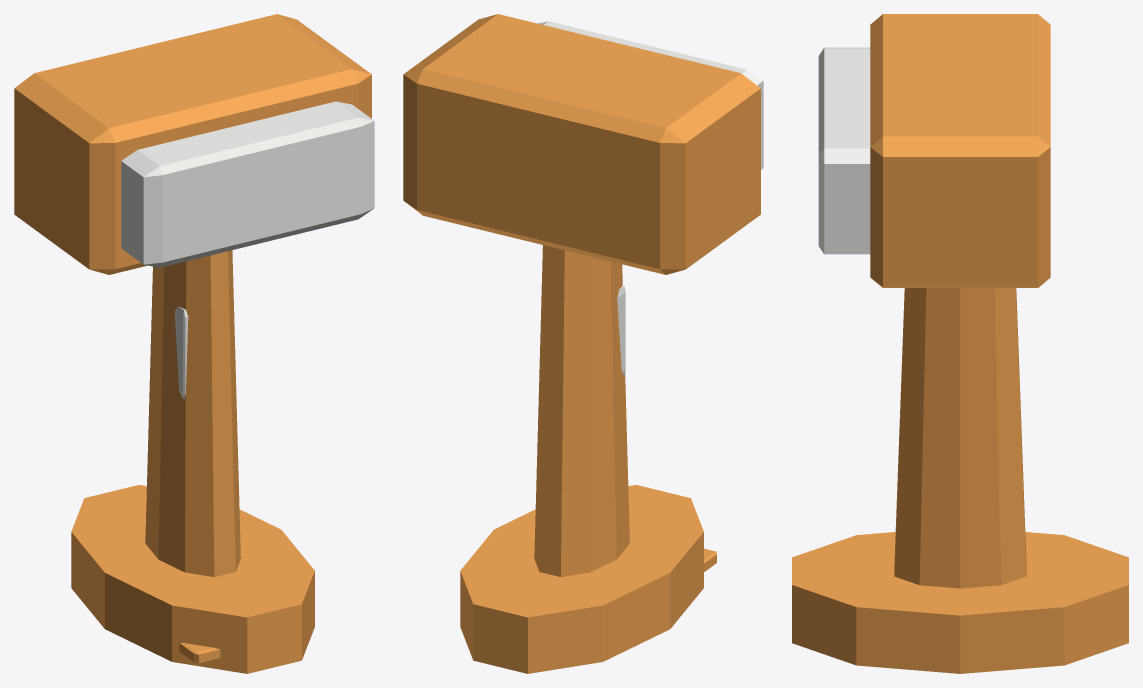
The model's file is b02_traffic_cone.glb.
The picture shows the model from 3 angles, left to right: view 1: azimuth 30°, elevation 25°; view 2: azimuth 150°, elevation 25°; view 3: azimuth 270°, elevation 25°; orthographic projection. The views are drawn at different scales.
Visible parts, largest first — view 1: b02_traffic_cone; view 2: b02_traffic_cone; view 3: b02_traffic_cone.
Part boxes in pixels (box(x1,y1,x2,y2)): b02_traffic_cone: box(14, 14, 374, 673); b02_traffic_cone: box(403, 14, 763, 673); b02_traffic_cone: box(792, 14, 1128, 673).
Bounding box in the file's own units: 0.39 × 0.708 × 0.39.
